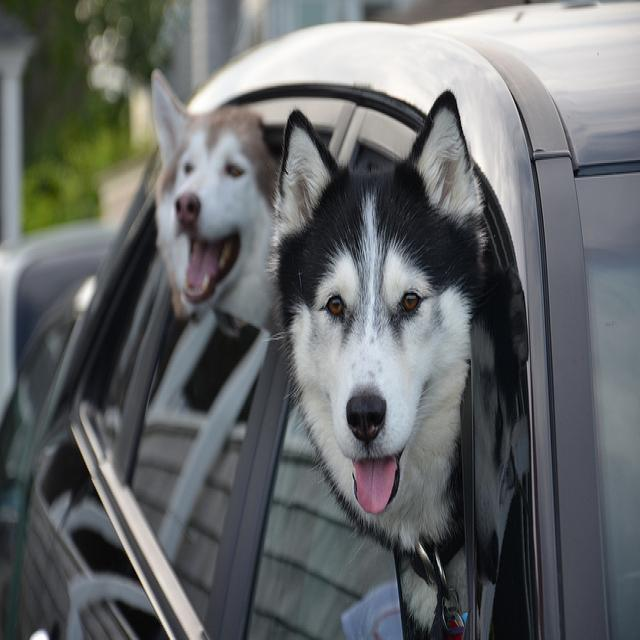Vehicle: (10, 2, 638, 640)
